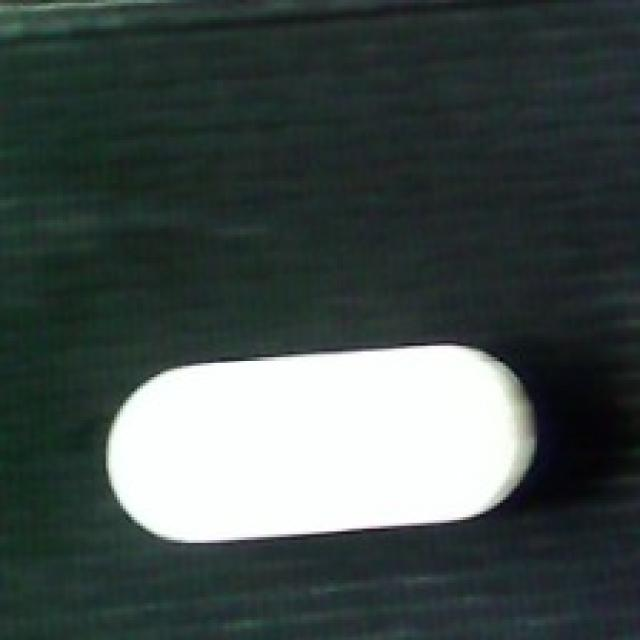no-defect: (100, 340, 540, 548)
